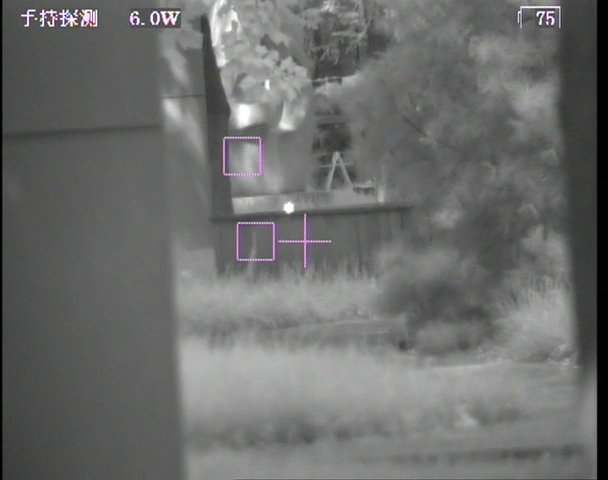my: (281, 201, 297, 216)
